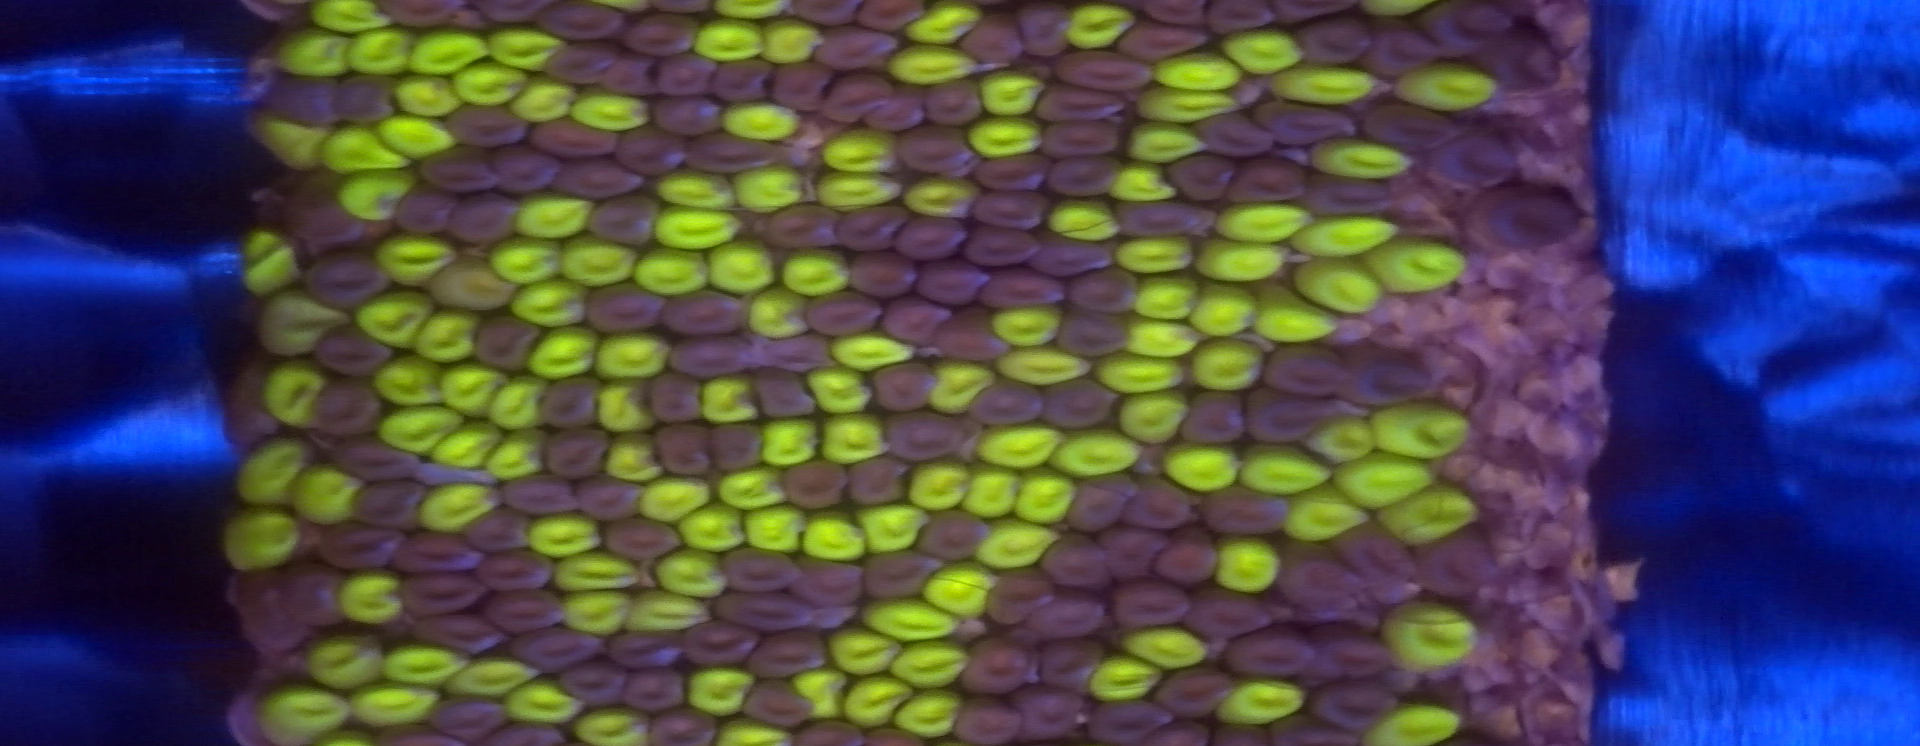fluorescent: (1389, 601, 1484, 669), (1393, 58, 1501, 113), (1371, 401, 1468, 458), (1337, 456, 1444, 506), (246, 103, 323, 171), (1371, 236, 1467, 292), (1254, 285, 1340, 345), (381, 354, 464, 415), (1288, 257, 1386, 307), (1239, 442, 1330, 496), (1381, 490, 1472, 543), (315, 122, 404, 175), (1264, 64, 1380, 104), (220, 506, 298, 566), (260, 688, 350, 739), (1139, 78, 1233, 126), (235, 442, 307, 503), (1299, 216, 1396, 261), (516, 187, 596, 241), (371, 107, 456, 158), (887, 40, 977, 88), (1100, 349, 1196, 393), (1318, 132, 1411, 178), (1048, 429, 1139, 475), (1215, 24, 1304, 71), (921, 561, 996, 616), (1164, 441, 1248, 490), (1116, 387, 1188, 443), (1288, 492, 1369, 543), (1120, 122, 1212, 167), (688, 668, 763, 722), (1307, 419, 1389, 468), (1198, 336, 1273, 388), (864, 597, 958, 639), (823, 126, 901, 175), (658, 165, 744, 209), (1062, 2, 1139, 51), (732, 167, 809, 216), (289, 477, 366, 526), (555, 551, 638, 597), (340, 24, 410, 78), (1158, 49, 1239, 96), (1109, 238, 1202, 278), (381, 403, 456, 453), (1187, 287, 1258, 339), (824, 408, 895, 461), (452, 659, 536, 703), (1122, 318, 1213, 359), (491, 233, 560, 287), (993, 349, 1093, 386), (961, 113, 1044, 157), (977, 425, 1065, 467), (1217, 535, 1280, 594), (895, 639, 970, 688), (504, 680, 583, 726), (707, 243, 774, 296), (1221, 682, 1303, 726), (425, 481, 498, 530), (590, 332, 667, 379), (1200, 239, 1286, 281), (651, 206, 735, 249), (1375, 704, 1461, 746), (533, 514, 618, 556), (816, 168, 900, 209), (1128, 626, 1210, 669), (278, 29, 351, 77), (558, 238, 636, 283), (350, 688, 442, 726), (760, 416, 827, 469), (1213, 203, 1311, 239), (573, 702, 651, 746), (389, 69, 458, 119), (432, 423, 502, 472), (486, 24, 561, 70), (516, 284, 590, 330), (420, 306, 475, 367), (309, 635, 377, 684), (638, 477, 714, 521), (333, 175, 407, 220), (975, 524, 1059, 563), (636, 251, 713, 294), (801, 511, 862, 565), (633, 588, 705, 633), (599, 374, 656, 430), (404, 29, 478, 73), (928, 363, 989, 415), (383, 233, 451, 281), (720, 99, 797, 141), (700, 371, 757, 428), (446, 359, 502, 415), (571, 89, 651, 129), (382, 644, 460, 685), (269, 358, 320, 420), (456, 58, 530, 99), (1019, 465, 1071, 524), (833, 621, 893, 673), (757, 16, 823, 62), (682, 503, 744, 552), (1049, 198, 1120, 241), (828, 332, 913, 367), (660, 550, 725, 597), (812, 365, 871, 415), (743, 503, 802, 554), (486, 431, 547, 479), (906, 4, 978, 44), (1103, 160, 1177, 200), (1086, 660, 1160, 699), (973, 75, 1044, 115), (781, 252, 846, 296), (861, 503, 929, 545), (609, 434, 662, 486), (902, 183, 980, 219), (749, 287, 807, 336), (993, 304, 1052, 352), (1131, 277, 1191, 322), (527, 333, 587, 379), (249, 238, 302, 288), (493, 376, 542, 431), (964, 468, 1020, 516), (718, 467, 778, 511), (348, 575, 400, 625), (693, 20, 760, 59), (905, 691, 966, 734), (847, 675, 906, 718), (920, 461, 970, 507), (516, 81, 567, 125), (359, 296, 420, 333), (571, 595, 624, 631), (800, 675, 847, 710)
nonfluorescent: (1469, 183, 1589, 245), (1423, 529, 1499, 603), (1489, 21, 1562, 94), (719, 546, 806, 608), (1430, 122, 1510, 185), (1278, 552, 1354, 616), (307, 252, 393, 309), (1310, 679, 1398, 733), (1057, 48, 1156, 96), (473, 312, 538, 385), (684, 130, 775, 181), (309, 382, 391, 439), (288, 181, 358, 247), (1264, 341, 1346, 396), (1344, 522, 1412, 588), (411, 614, 504, 661), (240, 572, 296, 650), (1040, 377, 1125, 429), (888, 404, 967, 459), (1353, 100, 1450, 146), (1236, 154, 1311, 211), (284, 568, 354, 630), (402, 573, 491, 621), (1292, 15, 1370, 69), (710, 587, 811, 628), (1250, 390, 1322, 447), (1363, 22, 1438, 77), (1349, 356, 1429, 408), (1254, 99, 1337, 148), (398, 528, 481, 577), (860, 551, 940, 601), (322, 513, 388, 575), (1206, 491, 1293, 538), (509, 626, 602, 669), (218, 366, 273, 439), (1183, 589, 1266, 637), (1311, 626, 1389, 677), (585, 194, 659, 247), (479, 548, 560, 597), (442, 100, 531, 145), (969, 15, 1030, 78), (681, 619, 754, 671), (315, 321, 383, 377), (1093, 697, 1176, 744), (807, 292, 883, 342), (917, 510, 989, 562), (588, 282, 667, 330), (602, 514, 686, 560), (1153, 669, 1234, 715), (667, 293, 742, 343), (1153, 532, 1216, 592), (1427, 1, 1498, 54), (540, 432, 607, 488), (453, 195, 522, 249), (424, 143, 493, 196), (966, 380, 1044, 426), (1304, 173, 1382, 219), (1060, 310, 1136, 358), (964, 187, 1046, 232), (929, 318, 1011, 363), (790, 554, 856, 608), (627, 13, 699, 62), (1234, 631, 1307, 680), (544, 2, 620, 49), (769, 60, 833, 115), (534, 118, 613, 162), (818, 24, 895, 70), (1035, 86, 1129, 122), (983, 565, 1047, 619), (962, 223, 1036, 269), (651, 48, 716, 100), (616, 125, 682, 176), (344, 435, 415, 483), (1042, 535, 1104, 589), (1064, 477, 1128, 529), (467, 501, 531, 552), (951, 698, 1025, 744), (396, 184, 454, 240), (753, 632, 824, 679), (966, 638, 1027, 692), (882, 293, 945, 344), (896, 120, 969, 165), (891, 212, 964, 257), (332, 72, 397, 122), (789, 461, 853, 511), (609, 627, 684, 670), (1125, 477, 1187, 529), (566, 658, 627, 710), (492, 587, 563, 632), (1029, 235, 1108, 276), (768, 205, 835, 252), (659, 420, 721, 472), (647, 367, 703, 424), (1119, 23, 1202, 61), (1180, 394, 1244, 443), (1021, 684, 1079, 737), (542, 381, 602, 432), (429, 692, 504, 733), (1068, 265, 1135, 310), (1113, 582, 1180, 627), (272, 72, 331, 124), (753, 367, 812, 419), (501, 474, 576, 514), (1171, 152, 1232, 201), (1122, 203, 1212, 236), (852, 251, 918, 296), (351, 480, 418, 526), (1198, 118, 1276, 156), (836, 207, 904, 251), (916, 266, 987, 307), (1042, 118, 1117, 157), (829, 71, 890, 119), (490, 149, 560, 191), (876, 86, 929, 138), (1047, 157, 1117, 197), (714, 60, 773, 108), (1033, 595, 1109, 632), (578, 475, 636, 523), (853, 452, 905, 505), (669, 334, 742, 371), (747, 677, 803, 725), (553, 168, 644, 197), (759, 334, 831, 371), (874, 363, 933, 407), (1100, 526, 1158, 570), (545, 44, 616, 80), (645, 97, 719, 131), (987, 269, 1063, 303), (705, 423, 763, 465), (598, 56, 658, 97), (622, 670, 686, 708), (982, 153, 1042, 192), (1022, 2, 1069, 51), (1041, 644, 1101, 682), (934, 85, 984, 127), (1211, 1, 1271, 31)
